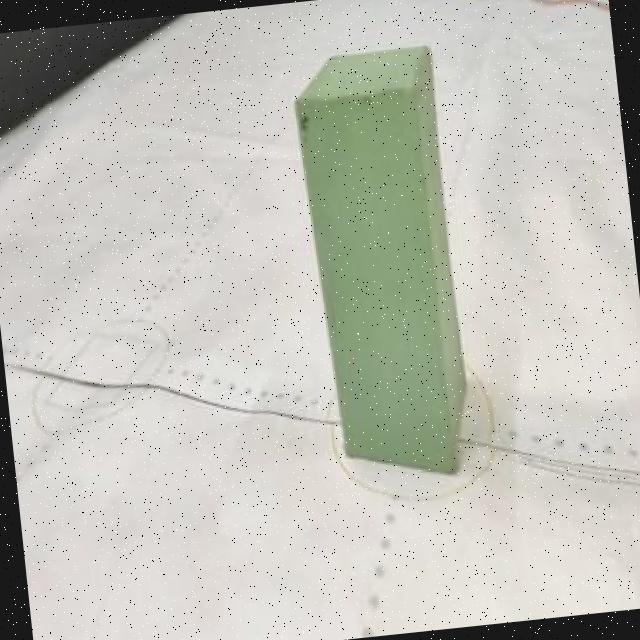greenbox: (288, 42, 474, 480)
